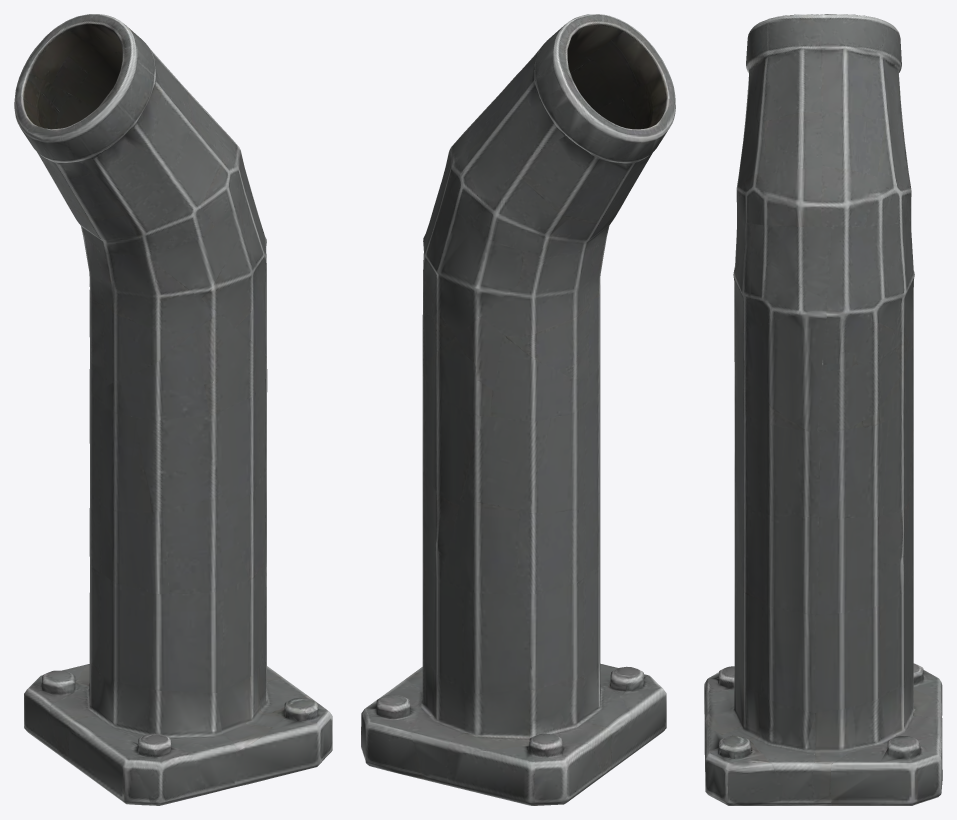
The model's file is exhaust_vertical.glb.
3 views of the same model, side by side, from view 1: azimuth 30°, elevation 25°; view 2: azimuth 150°, elevation 25°; view 3: azimuth 270°, elevation 25° (orthographic). The views are drawn at different scales.
Visible parts, largest first — view 1: mesh_node; view 2: mesh_node; view 3: mesh_node.
Boxes of the visible parts, bbox=[...] form: mesh_node: bbox=[14, 14, 332, 805]; mesh_node: bbox=[361, 14, 675, 805]; mesh_node: bbox=[704, 14, 942, 805].
Size of the model in its own units: 0.6921 by 1.9 by 0.5736.
Materials: 1 (1 with a texture image).
